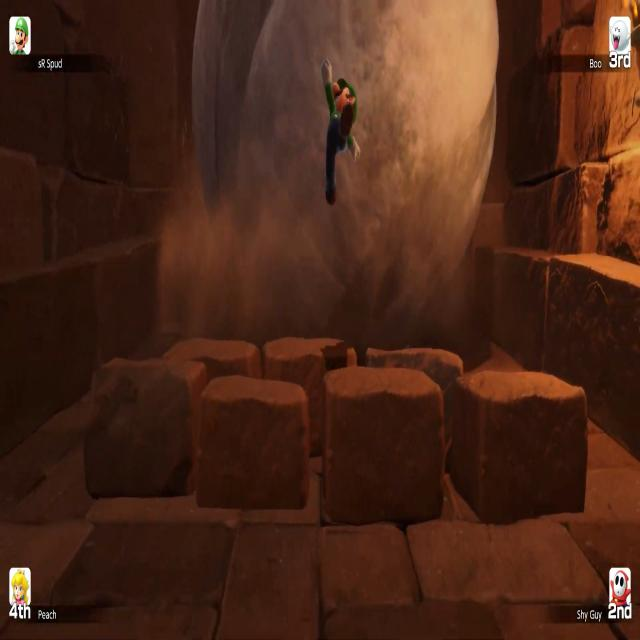Luigi: (321, 58, 360, 204)
obstacle: (453, 370, 587, 524), (322, 368, 444, 526), (83, 359, 207, 496), (196, 376, 306, 508), (364, 347, 464, 470), (264, 338, 356, 454), (162, 338, 262, 382)
rolling stone: (190, 0, 499, 340)
